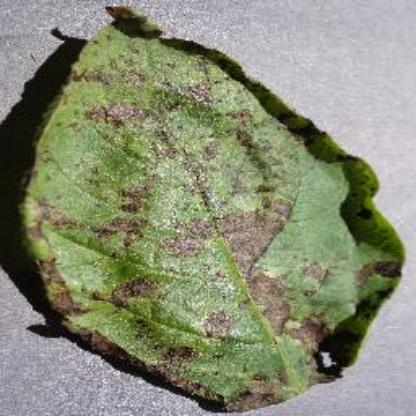Early-Blight: (20, 4, 413, 410)
